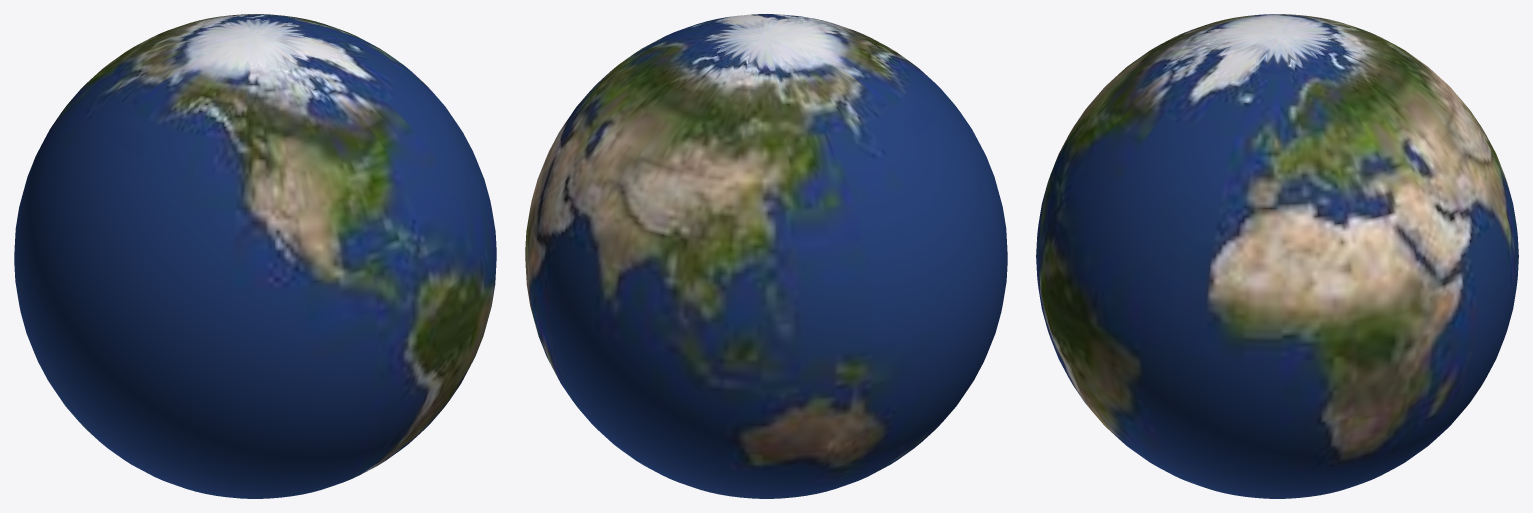
File: Earth.glb
3 views of the same model, side by side, from view 1: azimuth 30°, elevation 25°; view 2: azimuth 150°, elevation 25°; view 3: azimuth 270°, elevation 25° (orthographic).
Visible parts, largest first — view 1: Dunya; view 2: Dunya; view 3: Dunya.
Part boxes in pixels (x1=…): Dunya: x1=14, y1=14, x2=496, y2=498; Dunya: x1=525, y1=14, x2=1007, y2=498; Dunya: x1=1036, y1=14, x2=1518, y2=498.
Size of the model in its own units: 71.5 by 72.25 by 71.5.
1 material, 1 textured.
